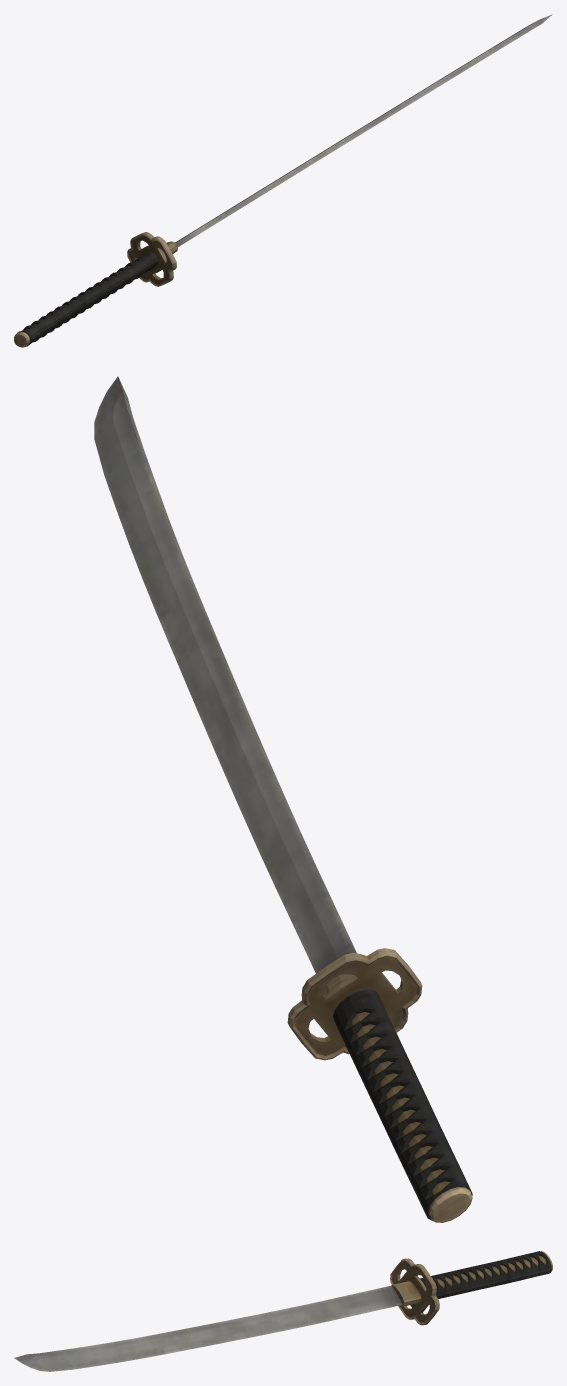
Rendered from ninja-katana.glb.
The picture shows the model from 3 angles, top to bottom: view 1: azimuth 90°, elevation 25°; view 2: azimuth 150°, elevation 25°; view 3: azimuth 270°, elevation 25°; orthographic projection. The views are drawn at different scales.
Parts seen in each view (by area): view 1: geometry_0; view 2: geometry_0; view 3: geometry_0.
Part boxes in pixels (box(x1,y1,x2,y2)): geometry_0: box(14, 14, 552, 347); geometry_0: box(94, 376, 472, 1222); geometry_0: box(14, 1251, 552, 1371).
Size of the model in its own units: 0.8208 by 0.2202 by 0.8691.
Materials: 1 (1 with a texture image).
